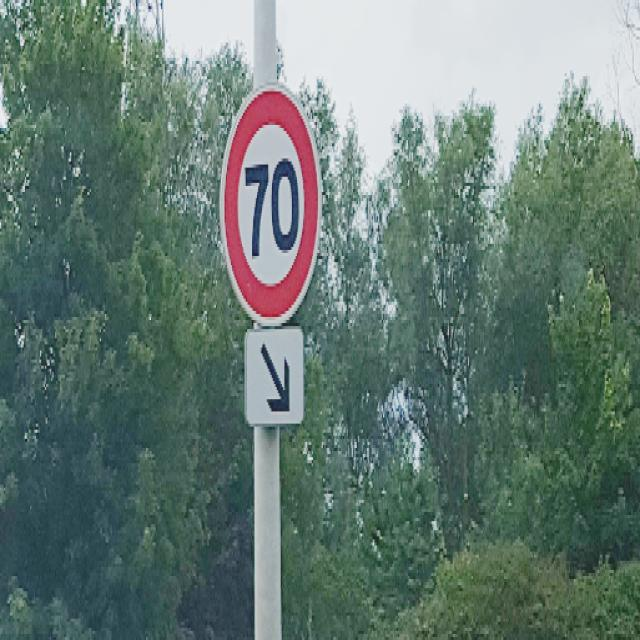speed_70: (220, 84, 321, 328)
